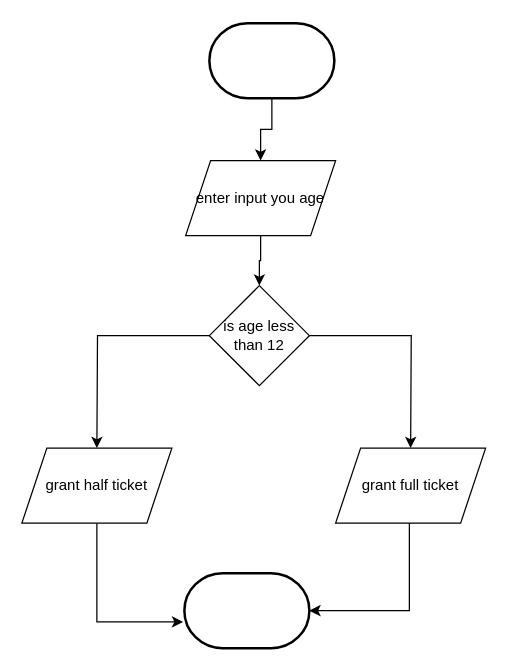
The diagram is 508 pixels wide and 670 high, and some of its shapes have lost their labels. The shapes that lost their labels are listed below. From the top down, each one's box as (x1, y1, x2, y2) in pixels, then its label:
(208, 21, 335, 99): start
(182, 571, 310, 649): end
